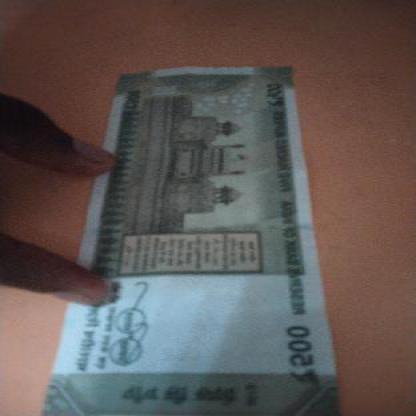New500Back: (37, 70, 311, 415)
